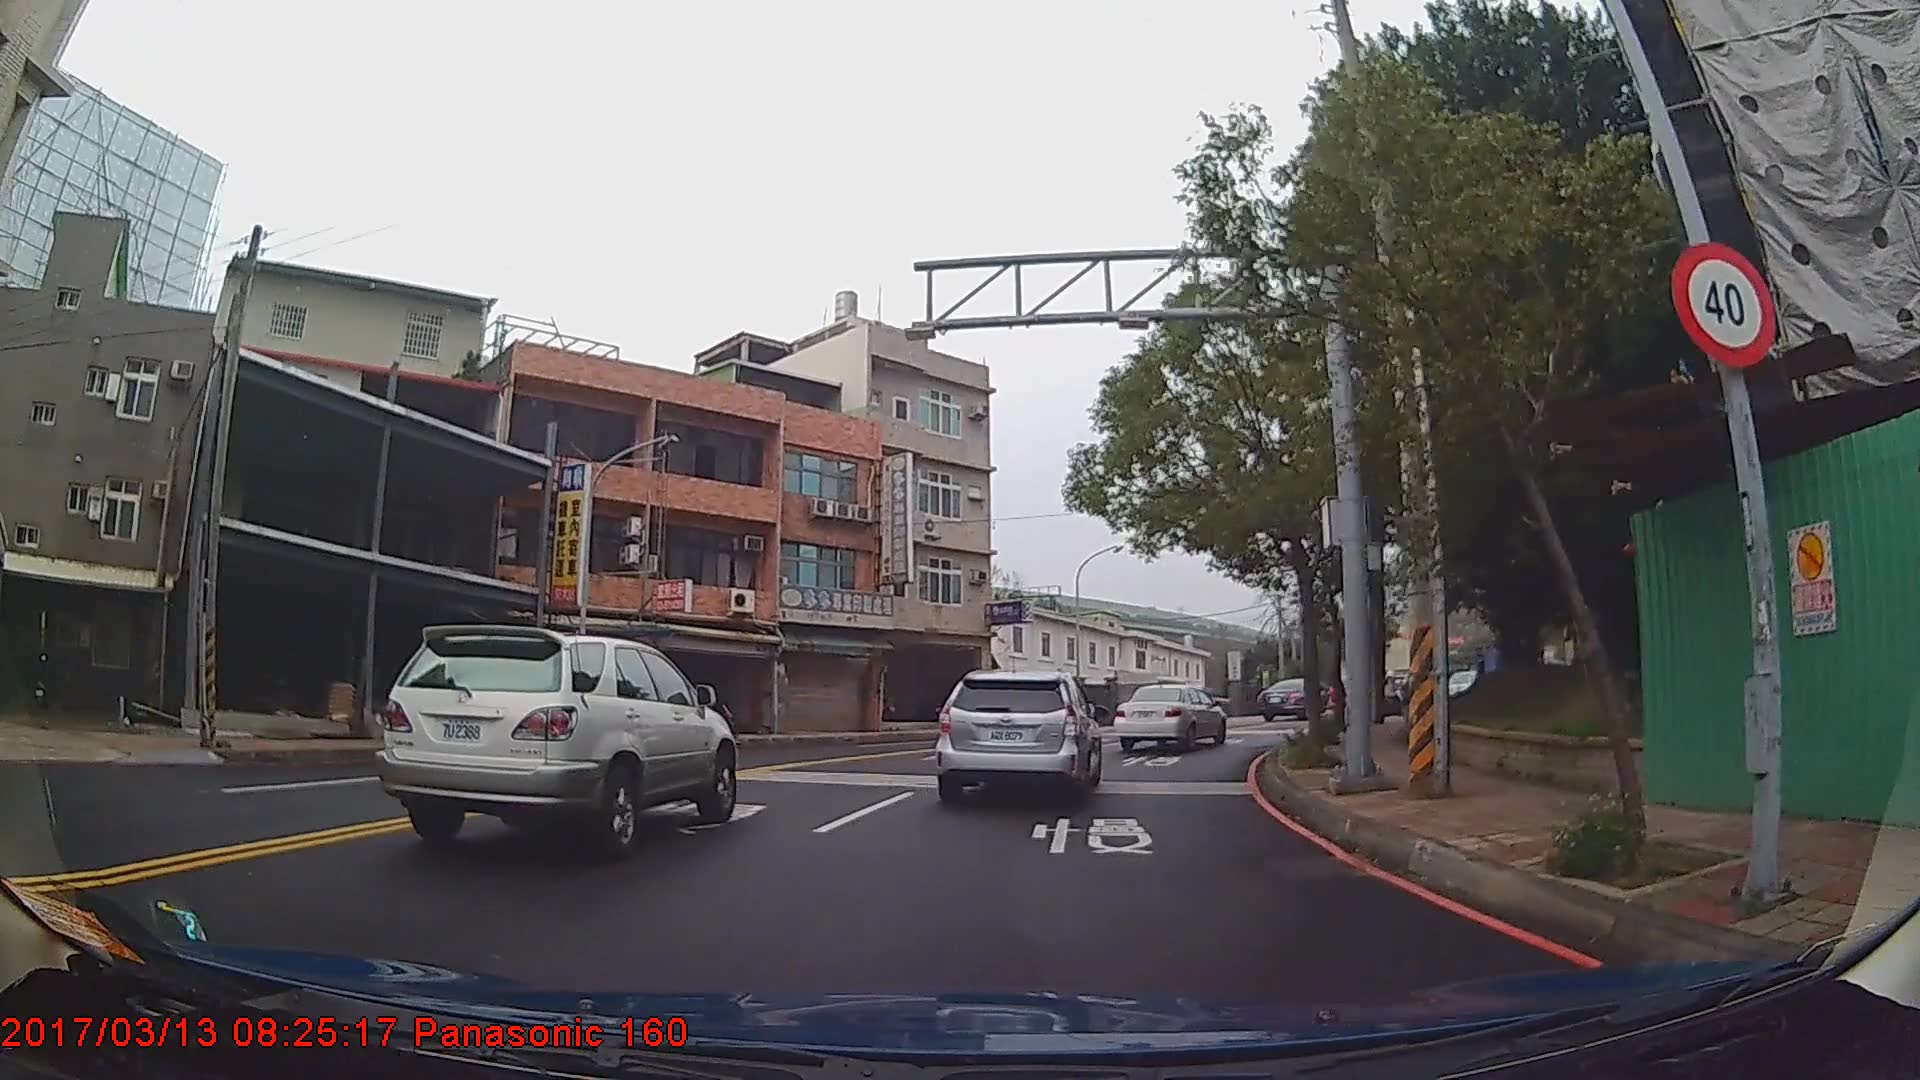vehicle: (372, 624, 740, 860), (934, 669, 1101, 804), (1112, 683, 1226, 752), (1254, 676, 1328, 723)
